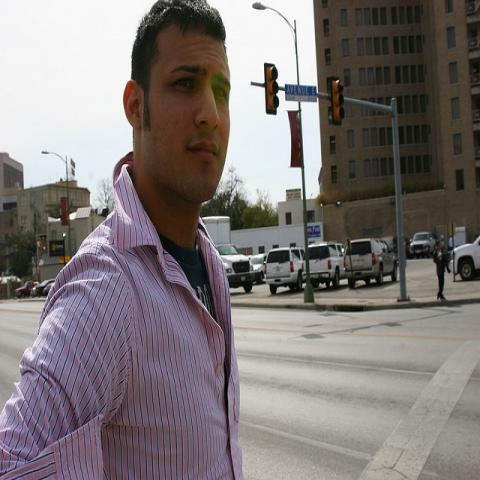car: (382, 236, 410, 261), (250, 253, 265, 288), (33, 278, 55, 298), (29, 280, 41, 298), (43, 282, 55, 297)
truck: (202, 215, 258, 293), (344, 236, 397, 288), (300, 239, 346, 288), (264, 246, 305, 296), (452, 232, 480, 283), (409, 232, 436, 260), (15, 280, 39, 298)
